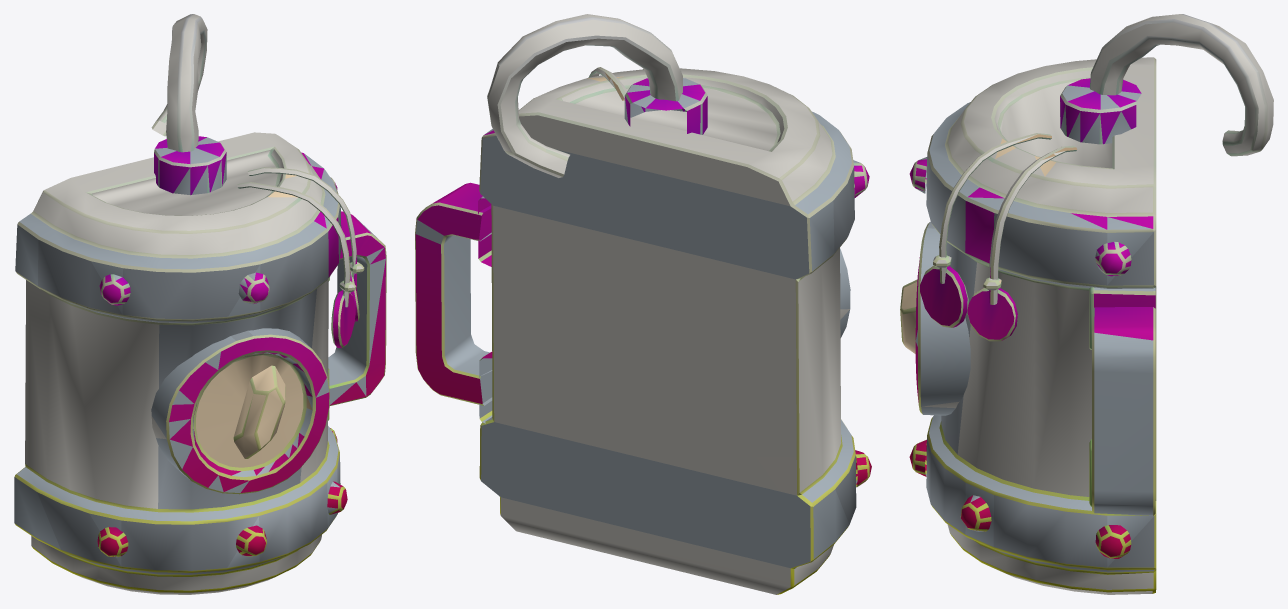
File: gp_bomb.glb
3 views of the same model, side by side, from view 1: azimuth 30°, elevation 25°; view 2: azimuth 150°, elevation 25°; view 3: azimuth 270°, elevation 25° (orthographic). The views are drawn at different scales.
Parts seen in each view (by area): view 1: gp_bomb; view 2: gp_bomb; view 3: gp_bomb.
Boxes of the visible parts, left/top/right/bottom form: gp_bomb: left=14, top=14, right=386, bottom=594; gp_bomb: left=415, top=14, right=871, bottom=594; gp_bomb: left=900, top=14, right=1273, bottom=594.
Bounding box in the file's own units: 0.3443 × 0.4497 × 0.2838.
